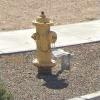a fire hydrant: (32, 18, 55, 63)
